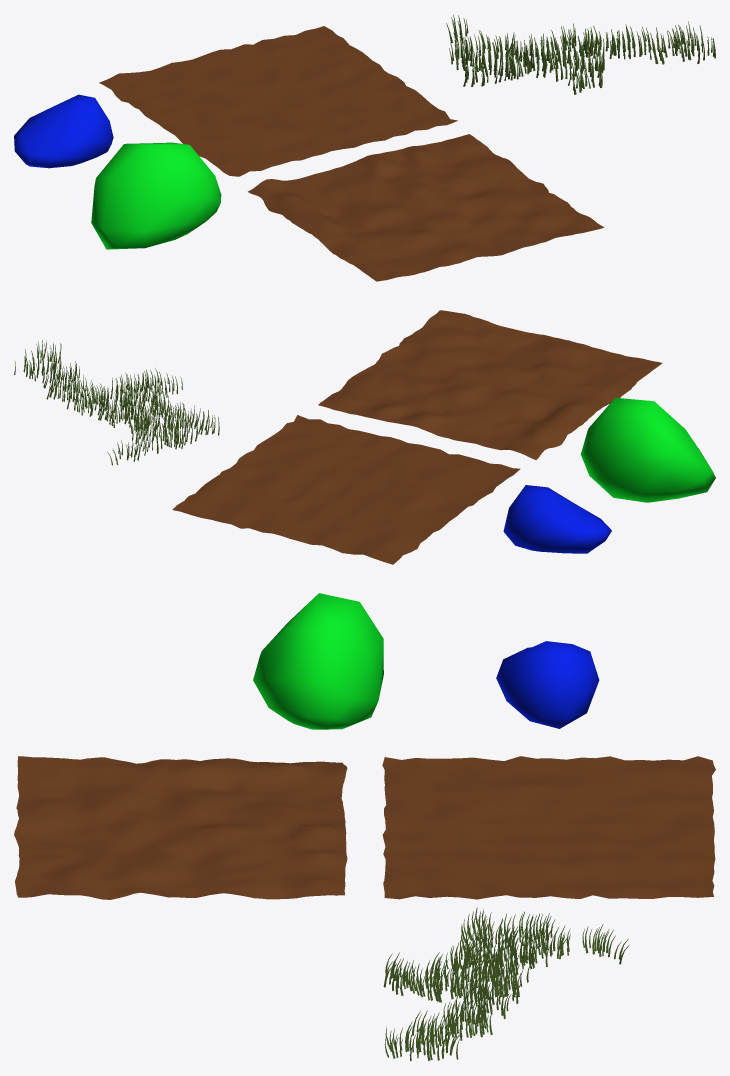
File: GroundProps.fbx
3 renders of one model, top to bottom at view 1: azimuth 30°, elevation 25°; view 2: azimuth 150°, elevation 25°; view 3: azimuth 270°, elevation 25°, orthographic. The views are drawn at different scales.
Visible parts, largest first — view 1: Dirt1, Dirt2, Rock2, Grass, Rock1; view 2: Dirt1, Dirt2, Rock2, Grass, Rock1; view 3: Dirt1, Dirt2, Rock2, Grass, Rock1.
Part boxes in pixels (x1=…): Dirt1: x1=99, y1=26, x2=457, y2=176; Dirt2: x1=248, y1=134, x2=604, y2=281; Rock2: x1=91, y1=142, x2=221, y2=249; Grass: x1=446, y1=14, x2=715, y2=94; Rock1: x1=14, y1=94, x2=113, y2=168; Dirt1: x1=172, y1=415, x2=520, y2=564; Dirt2: x1=318, y1=310, x2=662, y2=459; Rock2: x1=580, y1=397, x2=715, y2=502; Grass: x1=14, y1=340, x2=219, y2=465; Rock1: x1=503, y1=485, x2=611, y2=553; Dirt1: x1=382, y1=756, x2=715, y2=899; Dirt2: x1=14, y1=756, x2=347, y2=899; Rock2: x1=253, y1=593, x2=383, y2=729; Grass: x1=383, y1=907, x2=629, y2=1061; Rock1: x1=496, y1=641, x2=599, y2=728.
Bounding box in the file's own units: 21281 × 2884 × 15766.
